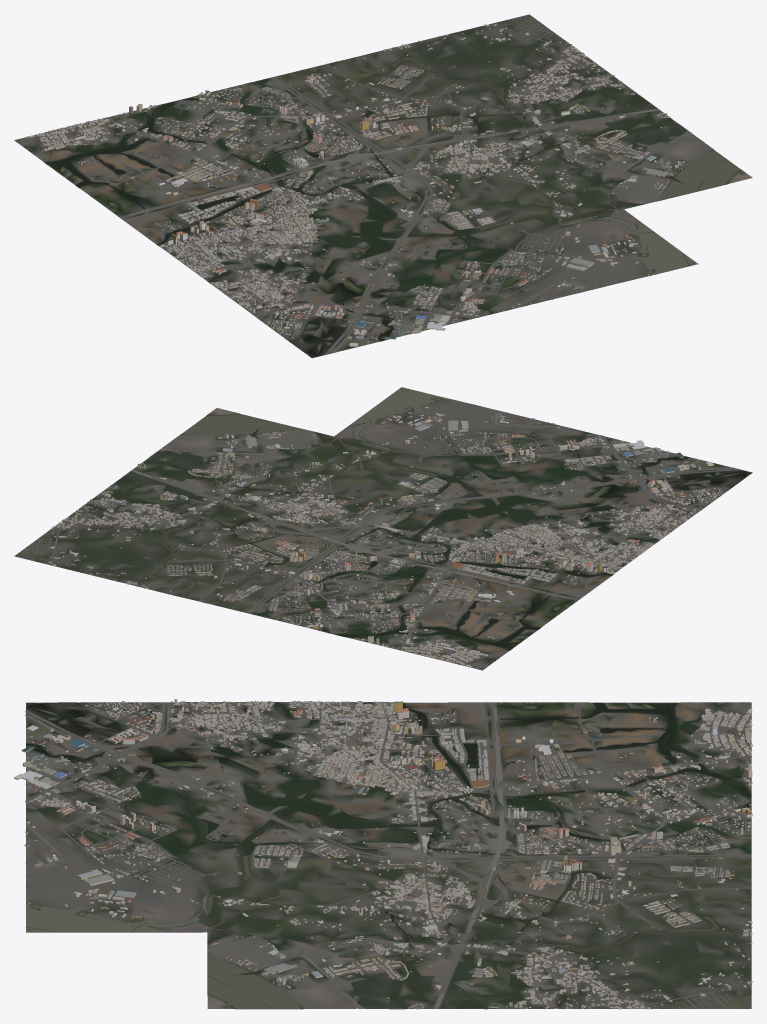
The picture shows the model from 3 angles, top to bottom: view 1: azimuth 30°, elevation 25°; view 2: azimuth 150°, elevation 25°; view 3: azimuth 270°, elevation 25°; orthographic projection. The views are drawn at different scales.
Visible parts, largest first — view 1: ground, buildings, roads, water; view 2: ground, buildings, roads, water; view 3: ground, buildings, roads, water.
Part boxes in pixels (x1,y1,x2,y2): ground: (14,14,752,358); buildings: (22,24,691,346); roads: (38,19,689,354); water: (44,39,740,342); ground: (14,388,752,670); buildings: (48,396,725,668); roads: (21,410,740,664); water: (78,387,732,650); ground: (26,702,751,1009); buildings: (14,699,752,1009); roads: (25,702,751,1009); water: (26,702,751,1009).
Size of the model in its own units: 5616 by 86.36 by 5705.
